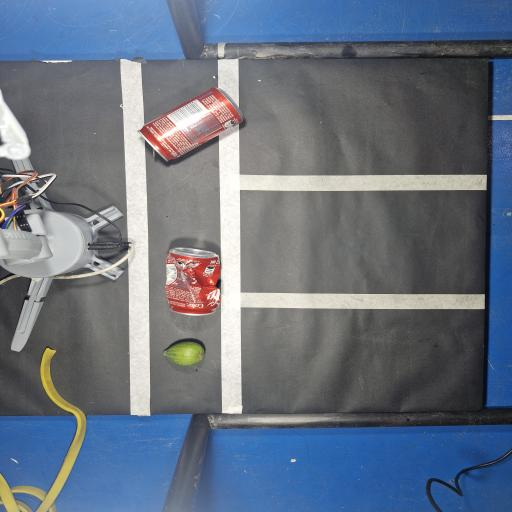higo: (164, 342, 204, 366)
lata: (138, 87, 243, 161)
lata_defectuoso: (166, 248, 220, 314)
